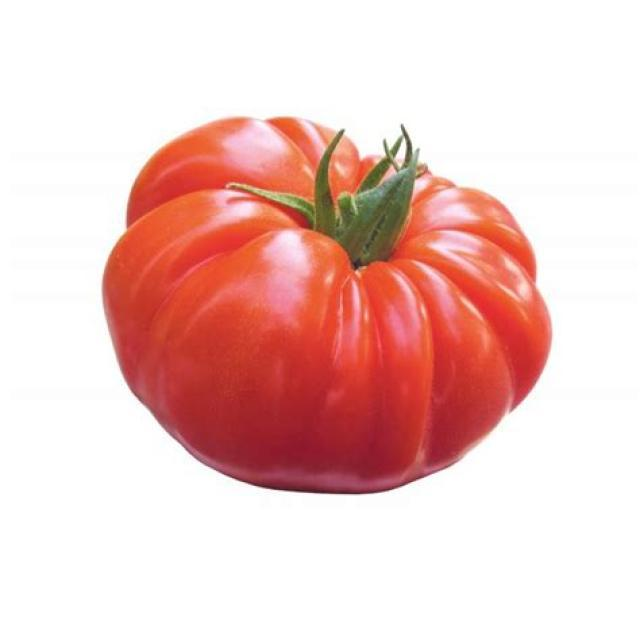Tomato: (101, 116, 554, 496)
